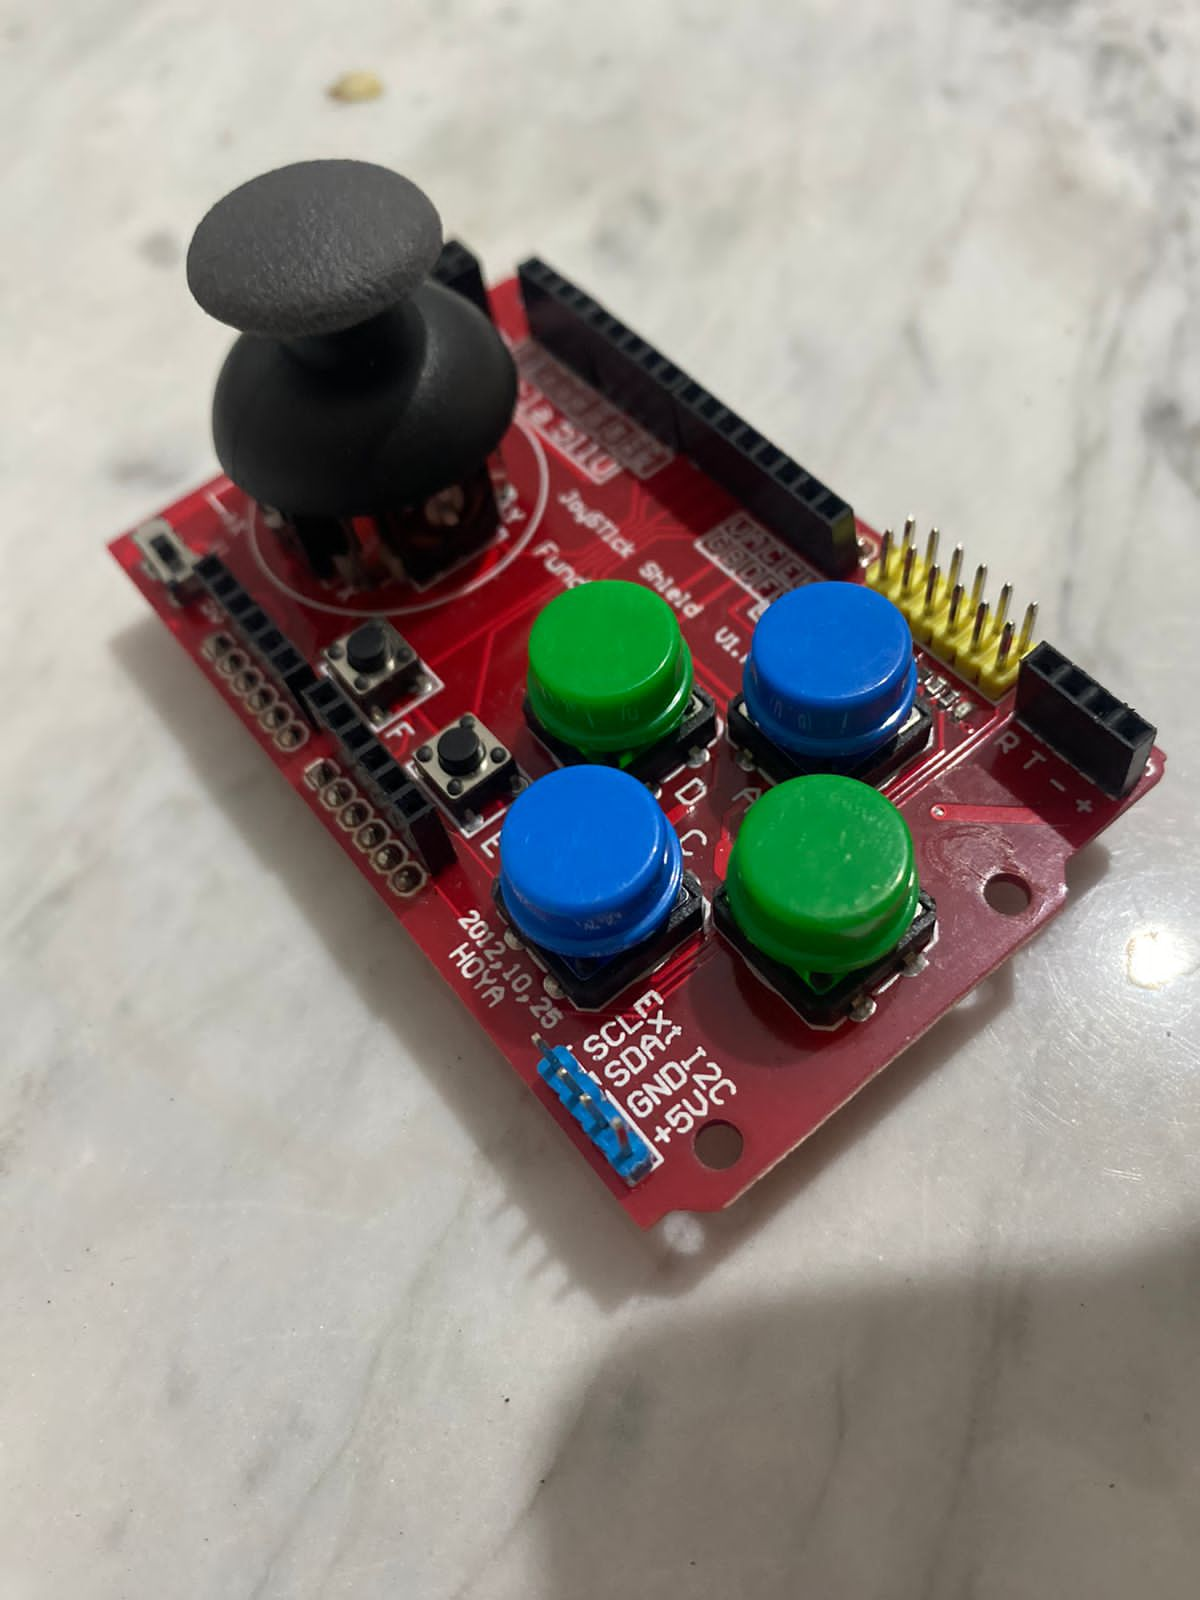Clavier-Joystick: (82, 151, 1181, 1238)
